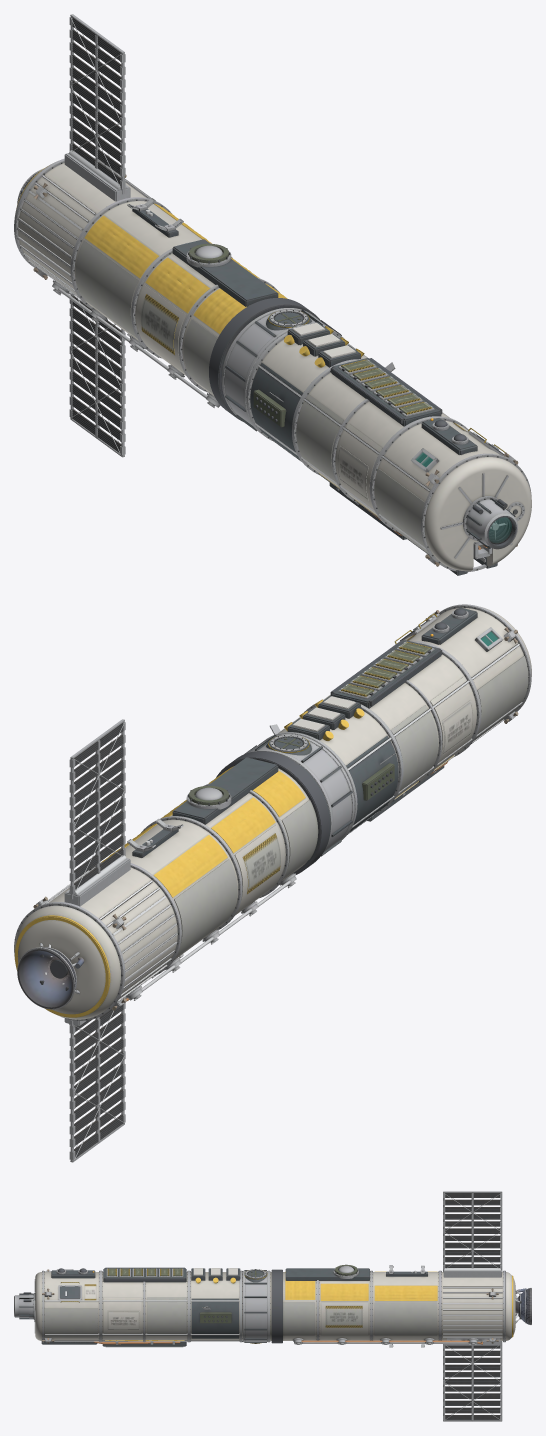
File: ship_bare.glb
3 renders of one model, top to bottom at view 1: azimuth 30°, elevation 25°; view 2: azimuth 150°, elevation 25°; view 3: azimuth 270°, elevation 25°, orthographic. The views are drawn at different scales.
Parts seen in each view (by area): view 1: TEX_Hull_Forward_Mesh, TEX_Hull_Aft_Mesh, TEX_Radiators_Mesh; view 2: TEX_Hull_Aft_Mesh, TEX_Hull_Forward_Mesh, TEX_Radiators_Mesh; view 3: TEX_Hull_Aft_Mesh, TEX_Hull_Forward_Mesh, TEX_Radiators_Mesh.
Part boxes in pixels (x1,y1,x2,y2): TEX_Hull_Forward_Mesh: (246, 322, 531, 575); TEX_Hull_Aft_Mesh: (14, 157, 341, 433); TEX_Radiators_Mesh: (64, 14, 130, 457); TEX_Hull_Aft_Mesh: (14, 734, 354, 1020); TEX_Hull_Forward_Mesh: (266, 604, 531, 839); TEX_Radiators_Mesh: (64, 719, 130, 1162); TEX_Hull_Aft_Mesh: (242, 1264, 531, 1347); TEX_Hull_Forward_Mesh: (14, 1267, 242, 1347); TEX_Radiators_Mesh: (443, 1191, 502, 1421).
Size of the model in its own units: 3.69 by 11.6 by 23.72.
Materials: 4 (3 with a texture image).
